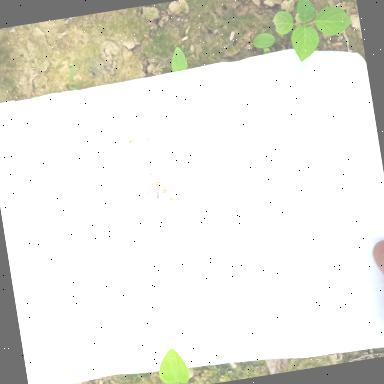pbw: (127, 130, 138, 144), (168, 194, 178, 203), (155, 184, 166, 190), (145, 136, 153, 144), (154, 190, 160, 200), (146, 184, 152, 194), (148, 170, 158, 176), (152, 180, 162, 186), (165, 186, 171, 195), (160, 188, 168, 194), (132, 199, 140, 204)
